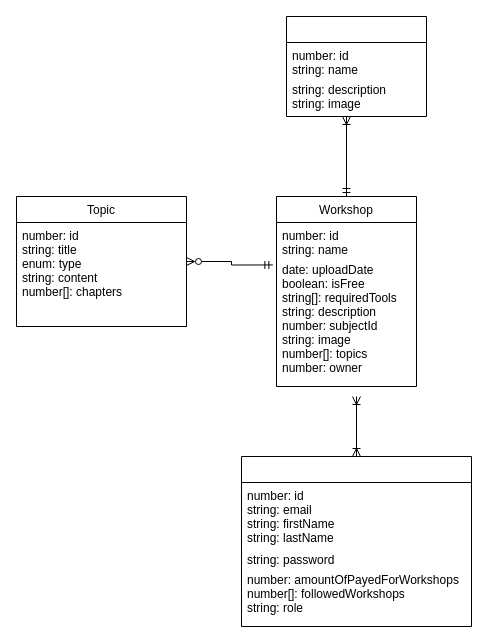
The diagram is 488 pixels wide and 643 high, and some of its shapes have lost their labels. Each missing label, with the box of its shape:
Subject: (286, 16, 426, 116)
User: (240, 456, 472, 626)
